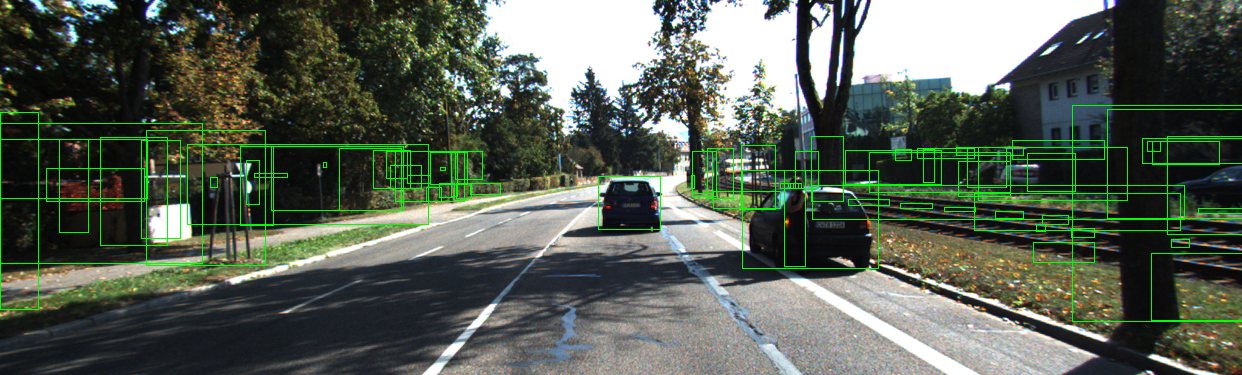car: (748, 183, 876, 272), (603, 178, 663, 236), (1178, 159, 1242, 207)
person: (785, 174, 812, 276)
